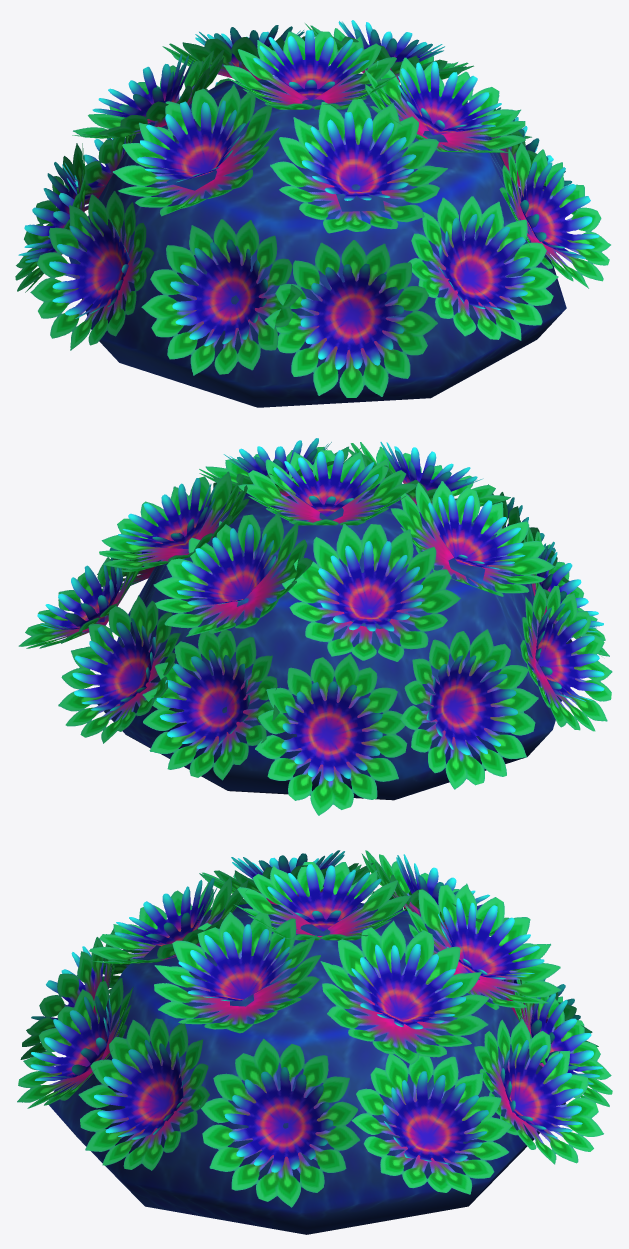
File: Coral_16b.FBX
The picture shows the model from 3 angles, top to bottom: view 1: azimuth 30°, elevation 25°; view 2: azimuth 150°, elevation 25°; view 3: azimuth 270°, elevation 25°; orthographic projection. The views are drawn at different scales.
Visible parts, largest first — view 1: Coral_16b; view 2: Coral_16b; view 3: Coral_16b.
Boxes of the visible parts, x1,y1,x2,y2 form: Coral_16b: (15,20,610,407); Coral_16b: (18,438,612,815); Coral_16b: (17,850,612,1234).
Bounding box in the file's own units: 27.88 × 12.72 × 27.27.
